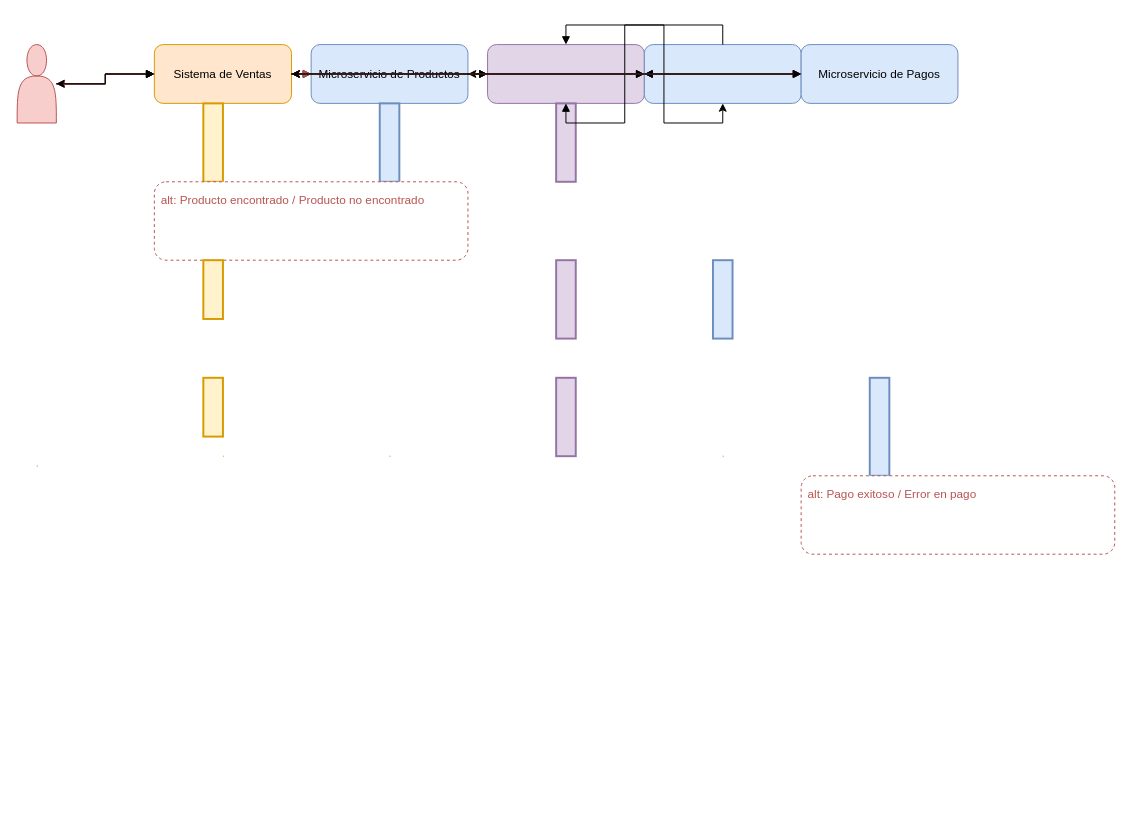
Image size: 1132x826. Some labels were removed from this diagram. The centre of each missing label's shape, as x and y in pixels:
"Base de Datos MongoDB" belongs at (x=565, y=73).
"Cliente" belongs at (x=36, y=83).
"Microservicio de Órdenes" belongs at (x=722, y=73).
